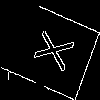X: (25, 24, 75, 73)
